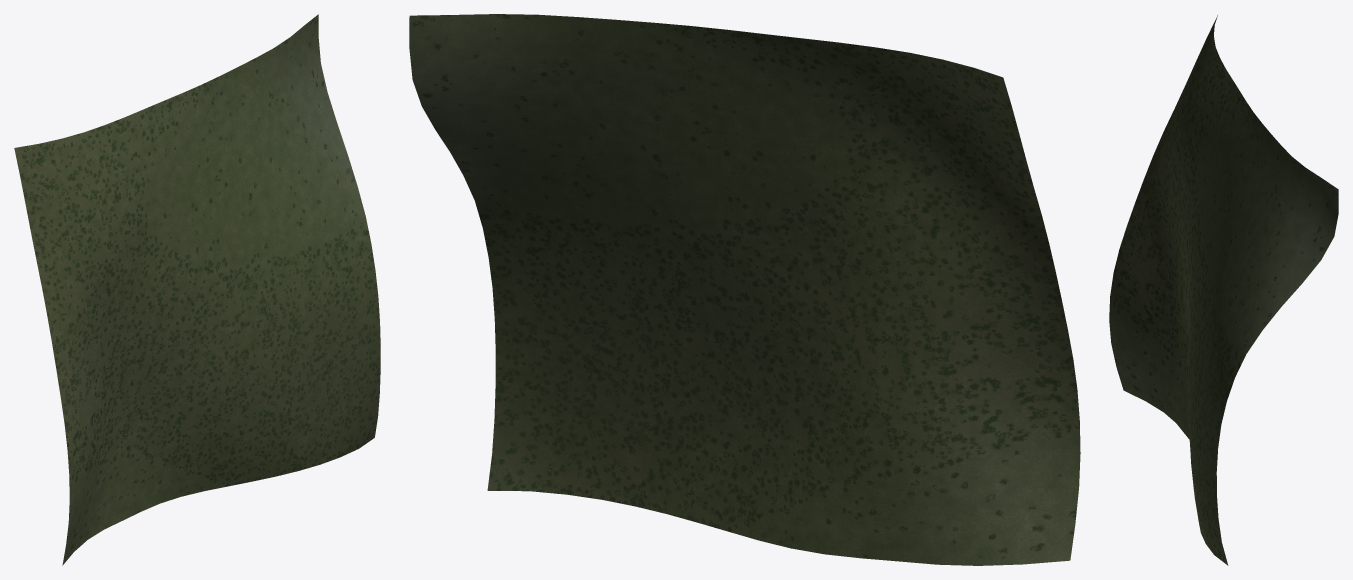
Rendered from terrain_mid_06_04.obj.
3 renders of one model, left to right at view 1: azimuth 30°, elevation 25°; view 2: azimuth 150°, elevation 25°; view 3: azimuth 270°, elevation 25°, orthographic. The views are drawn at different scales.
Visible parts, largest first — view 1: terrain_mid_06_04; view 2: terrain_mid_06_04; view 3: terrain_mid_06_04.
Boxes of the visible parts, box(x1,y1,x2,y2) form: terrain_mid_06_04: box(14, 14, 380, 565); terrain_mid_06_04: box(409, 14, 1080, 565); terrain_mid_06_04: box(1109, 15, 1338, 565).
Bounding box in the file's own units: 320 × 320 × 177.
Materials: 1 (1 with a texture image).
